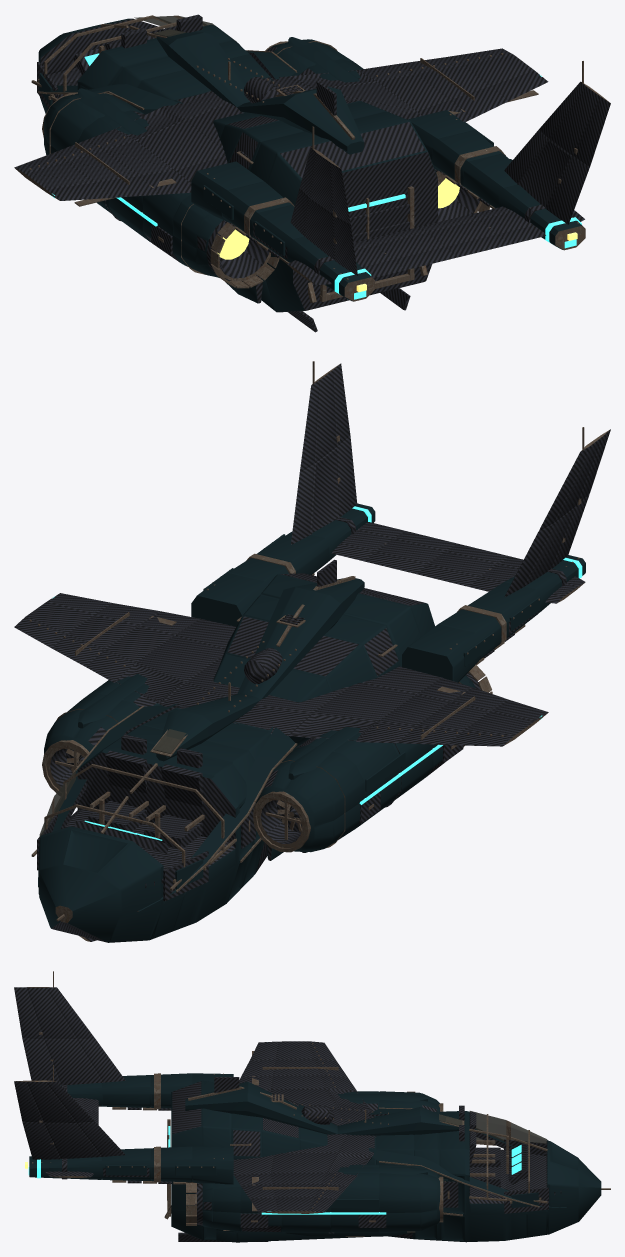
The picture shows the model from 3 angles, top to bottom: view 1: azimuth 30°, elevation 25°; view 2: azimuth 150°, elevation 25°; view 3: azimuth 270°, elevation 25°; orthographic projection. The views are drawn at different scales.
Visible parts, largest first — view 1: kb7_core, kb7_tail_r, kb7_tail_l, kb7_wing_r, kb7_wing_l; view 2: kb7_core, kb7_tail_r, kb7_wing_r, kb7_tail_l, kb7_wing_l; view 3: kb7_core, kb7_tail_l, kb7_tail_r, kb7_wing_l, kb7_wing_r.
Part boxes in pixels (x1,y1,x2,y2): kb7_core: [31, 14, 585, 332]; kb7_tail_r: [417, 61, 610, 257]; kb7_tail_l: [287, 126, 457, 284]; kb7_wing_r: [357, 48, 548, 121]; kb7_wing_l: [14, 129, 191, 206]; kb7_core: [31, 503, 585, 942]; kb7_tail_r: [291, 361, 457, 574]; kb7_wing_r: [14, 593, 199, 682]; kb7_tail_l: [417, 427, 610, 603]; kb7_wing_l: [356, 678, 548, 746]; kb7_core: [25, 1073, 610, 1242]; kb7_tail_l: [14, 971, 125, 1124]; kb7_tail_r: [14, 1065, 125, 1177]; kb7_wing_l: [239, 1041, 356, 1091]; kb7_wing_r: [234, 1172, 356, 1213].
Size of the model in its own units: 5.8 by 3.31 by 8.61.
Materials: 6 (2 with a texture image).
